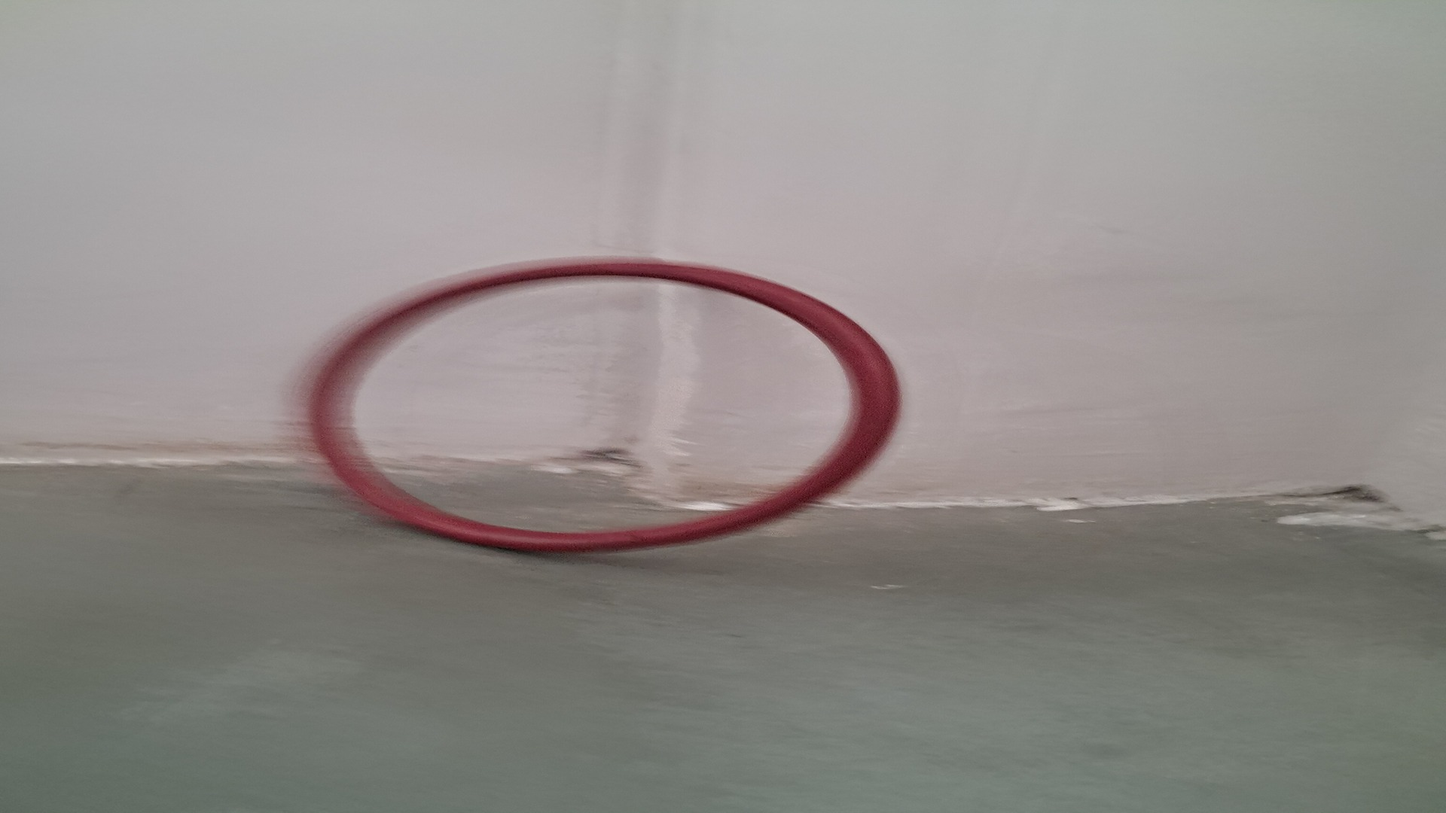Red ring: (309, 258, 896, 547)
